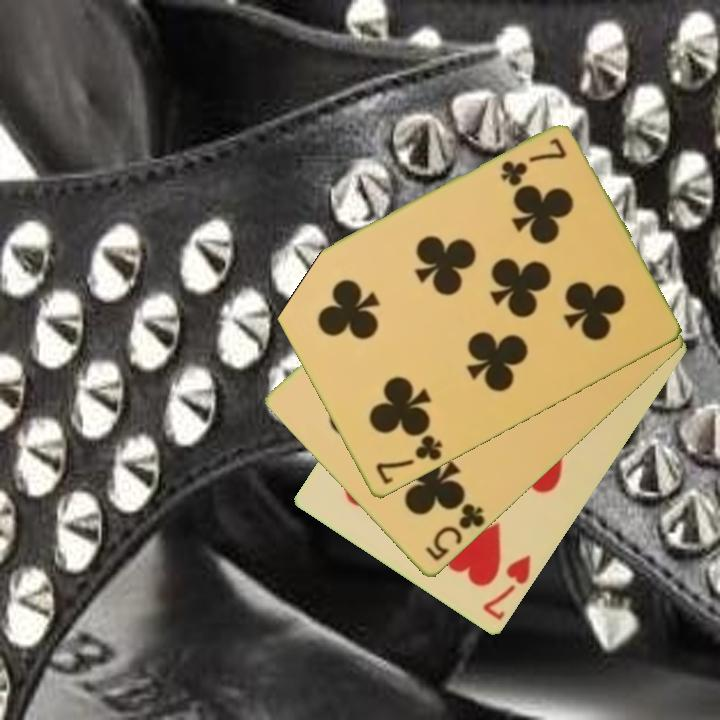5c: (421, 498, 489, 565)
7c: (372, 432, 446, 488), (496, 135, 570, 190)
7h: (479, 552, 534, 624)
